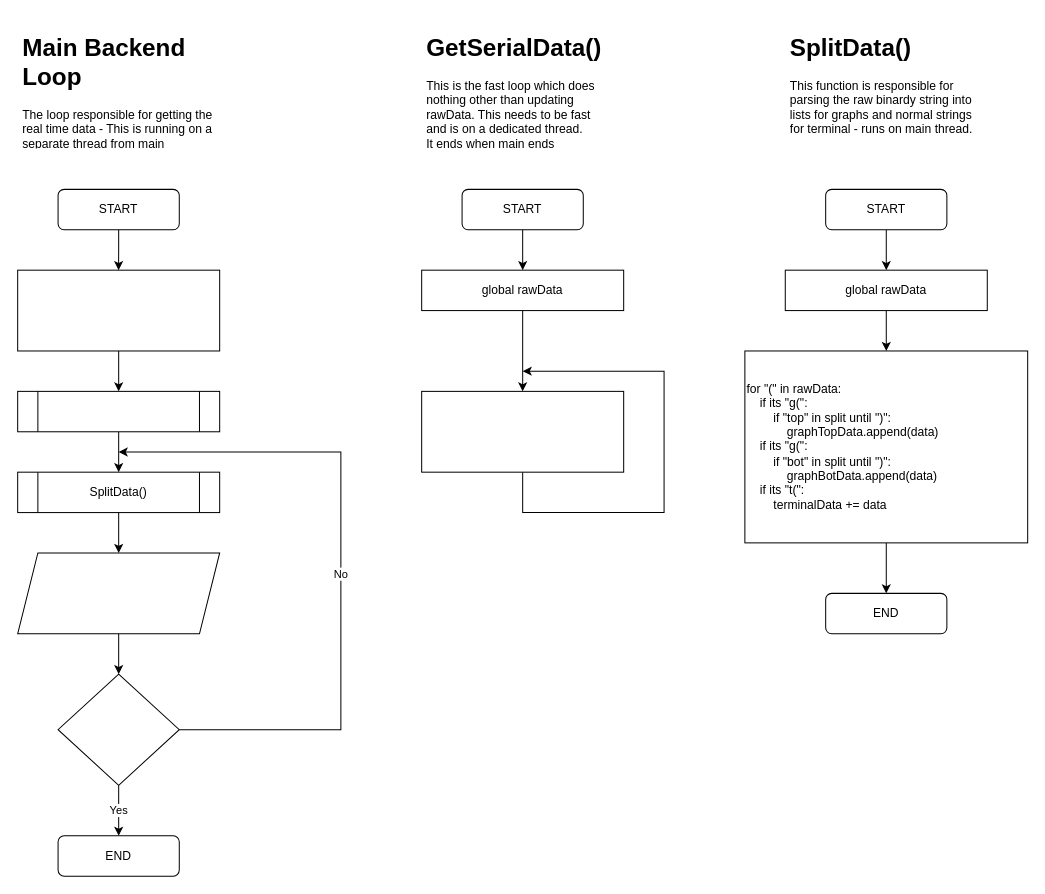
This 1045x894 diagram has some shape labels left out. Here are the shapes that lost their labels. From the top down, the centre of each, then its label:
the point at 118,310: initialise: graphTopData = [] graphBotData = [] terminalData = "" rawData = ""
the point at 118,411: GetSerialData()
the point at 522,431: rawData = device.readline()
the point at 118,593: Output to FrontEnd graphTopData graphBotData terminalData
the point at 118,729: User selected quit?
